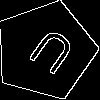U: (20, 26, 79, 85)
